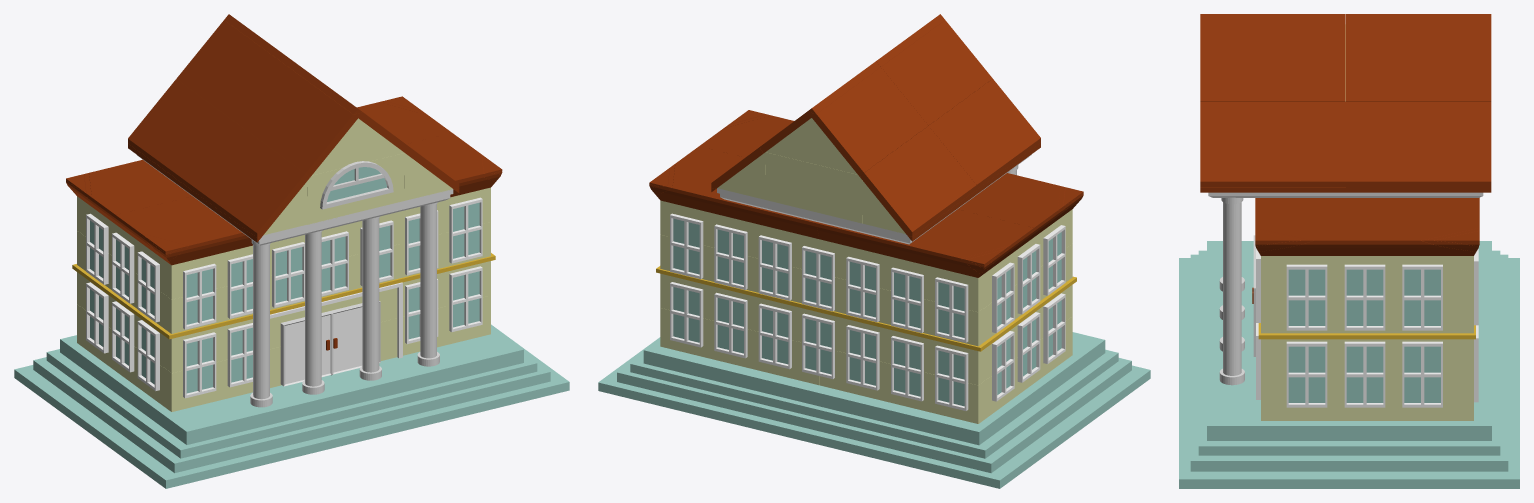
Rendered from cityhalparcalıl.fbx.
3 renders of one model, left to right at view 1: azimuth 30°, elevation 25°; view 2: azimuth 150°, elevation 25°; view 3: azimuth 270°, elevation 25°, orthographic. The views are drawn at different scales.
Parts seen in each view (by area): view 1: Cube.017, Plane.002_cell.004, Plane.002_cell.007, Plane.002_cell.006, Plane.002_cell.005, Cube.016_cell.002, Cube.016_cell, Cube_cell.011, Cube_cell.009, Cube.044, Cylinder.002, Cube_cell.005 (+41 smaller); view 2: Cube.017, Plane.002_cell.005, Plane.002_cell.006, Plane.002_cell.007, Cube.016_cell, Plane.002_cell.004, Cube_cell.008, Cube.016_cell.001, Plane.001_cell.009, Cube_cell.001, Cube.016_cell.002, Cube_cell.010 (+36 smaller); view 3: Cube.017, Plane.002_cell.009, Plane.002_cell.010, Plane.002_cell.004, Plane.002_cell.005, Cube.016_cell.003, Cube.016_cell.001, Cube_cell.010, Cube_cell.009, Cylinder.003, Cube_cell.003, Cube_cell.007 (+19 smaller).
Boxes of the visible parts, x1,y1,x2,y2 form: Cube.017: [14, 324, 569, 488]; Plane.002_cell.004: [241, 67, 410, 177]; Plane.002_cell.007: [192, 126, 309, 237]; Plane.002_cell.006: [128, 79, 240, 190]; Plane.002_cell.005: [176, 20, 288, 125]; Cube.016_cell.002: [115, 196, 252, 265]; Cube.016_cell: [73, 159, 192, 229]; Cube_cell.011: [125, 273, 331, 373]; Cube_cell.009: [331, 222, 490, 321]; Cube.044: [285, 307, 362, 384]; Cylinder.002: [359, 216, 381, 380]; Cube_cell.005: [124, 346, 281, 411]; Cube.017: [598, 333, 1141, 488]; Plane.002_cell.005: [759, 67, 928, 176]; Plane.002_cell.006: [860, 126, 976, 236]; Plane.002_cell.007: [929, 79, 1040, 189]; Cube.016_cell: [817, 209, 1033, 277]; Plane.002_cell.004: [881, 20, 992, 125]; Cube_cell.008: [819, 277, 1025, 385]; Cube.016_cell.001: [656, 146, 819, 238]; Plane.001_cell.009: [765, 152, 862, 223]; Cube_cell.001: [819, 350, 1025, 423]; Cube.016_cell.002: [958, 173, 1076, 242]; Cube_cell.010: [660, 234, 819, 342]; Cube.017: [1179, 241, 1519, 488]; Plane.002_cell.009: [1200, 101, 1345, 186]; Plane.002_cell.010: [1346, 101, 1491, 186]; Plane.002_cell.004: [1200, 22, 1345, 101]; Plane.002_cell.005: [1346, 22, 1491, 101]; Cube.016_cell.003: [1255, 198, 1367, 255]; Cube.016_cell.001: [1367, 198, 1479, 255]; Cube_cell.010: [1367, 294, 1473, 377]; Cube_cell.009: [1261, 294, 1367, 377]; Cylinder.003: [1219, 197, 1244, 385]; Cube_cell.003: [1367, 377, 1473, 420]; Cube_cell.007: [1261, 377, 1367, 420].
Size of the model in its own units: 1131 by 867 by 736.
